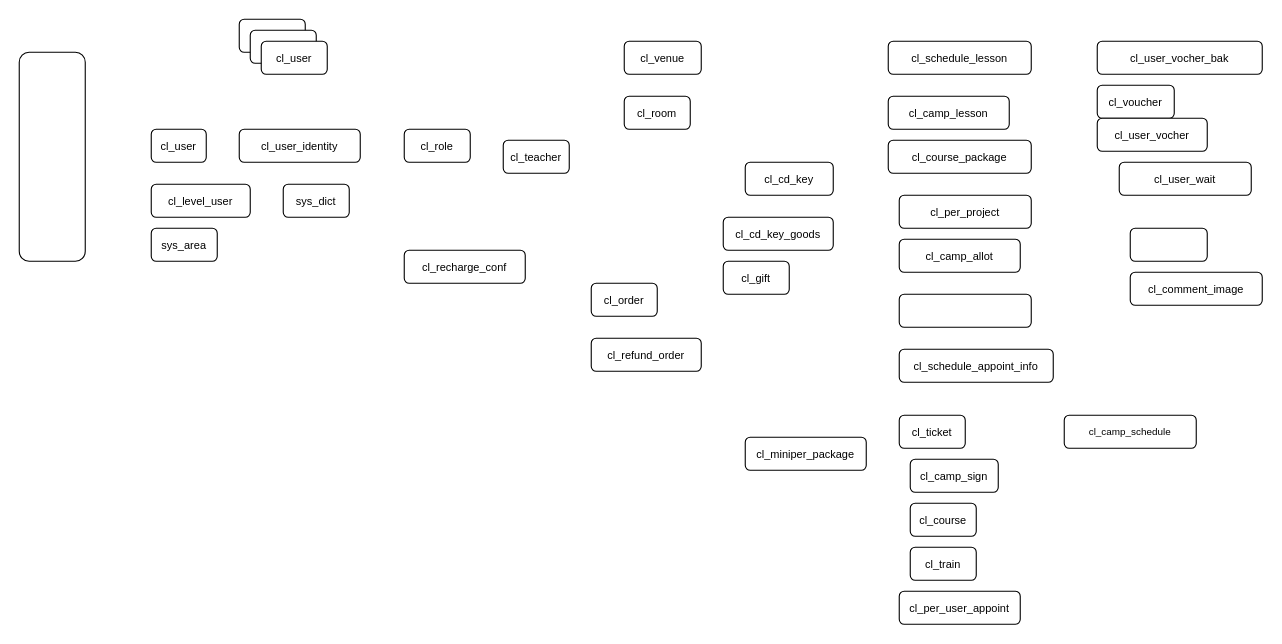
The diagram is 1282 pixels wide and 644 high, and some of its shapes have lost their labels. Here are the shapes that lost their labels. From the top down, the centre of each, then its label:
At pixel 51 156: "ODS".
At pixel 1168 244: "cl_comment".
At pixel 964 310: "cl_camp_appoint_info".
